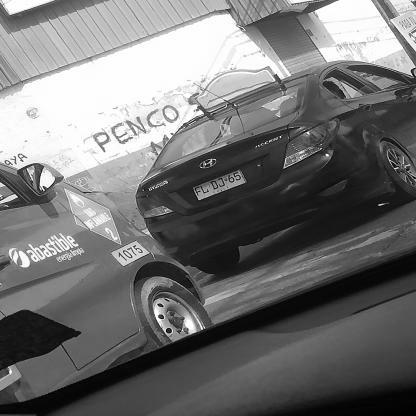Patente: (190, 168, 252, 204)
